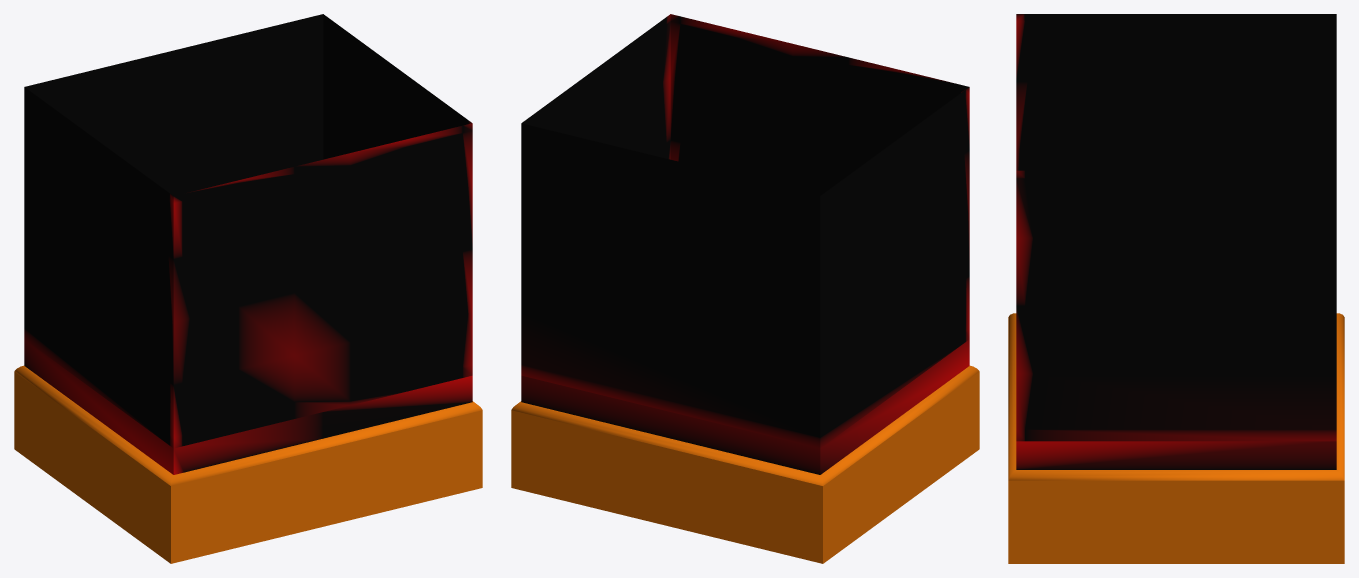
Rendered from House6_collisionSetup.fbx.
The picture shows the model from 3 angles, left to right: view 1: azimuth 30°, elevation 25°; view 2: azimuth 150°, elevation 25°; view 3: azimuth 270°, elevation 25°; orthographic projection. The views are drawn at different scales.
Visible parts, largest first — view 1: collisionCube.011, collisionConvex.205; view 2: collisionCube.011, collisionConvex.205; view 3: collisionCube.011, collisionConvex.205.
Boxes of the visible parts, left/top/right/bottom form: collisionCube.011: left=24, top=14, right=472, bottom=474; collisionConvex.205: left=14, top=365, right=482, bottom=563; collisionCube.011: left=521, top=14, right=969, bottom=474; collisionConvex.205: left=511, top=365, right=979, bottom=563; collisionCube.011: left=1016, top=14, right=1336, bottom=469; collisionConvex.205: left=1008, top=313, right=1344, bottom=563.
Size of the model in its own units: 965 by 1075 by 840.
